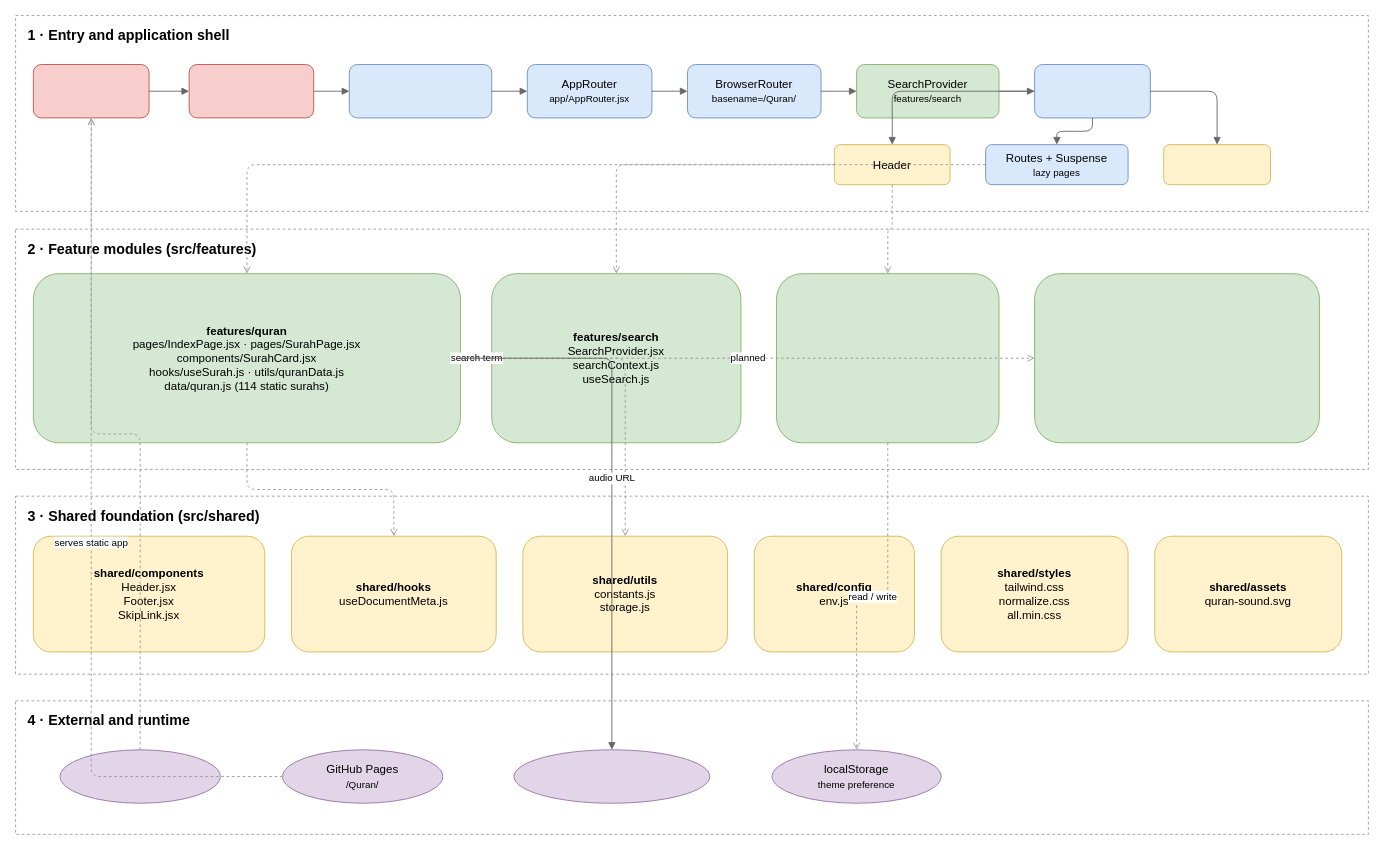
Some shapes in this 1384 by 850 pixel diagram are drawn without their labels. Each missing label, with the centre of its shape:
App shell app/App.jsx: point 1092,91
Cloudflare R2 audio CDN (MP3): point 611,776
ErrorBoundary app/ErrorBoundary.jsx: point 420,91
features/audio useAudio.js (available, not wired yet): point 1176,358
features/theme useDarkMode.js themeUtils.js: point 887,358
Footer: point 1216,164
index.html Vite entry · #root: point 90,91
main.jsx createRoot + StrictMode: point 251,91
User / Browser: point 139,776
